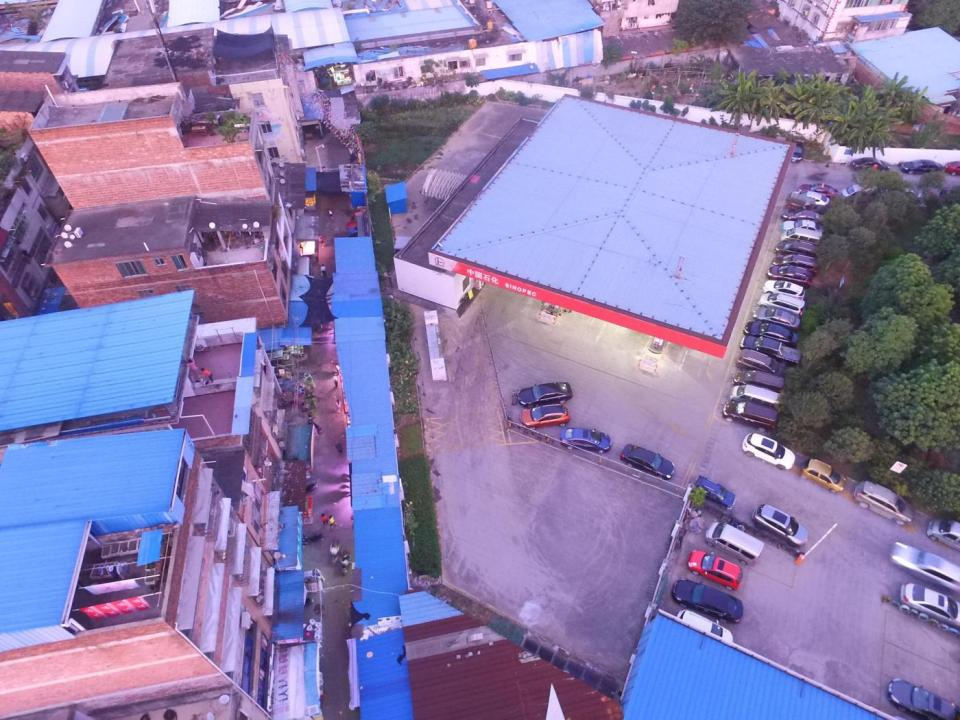car: (889, 542, 959, 594), (671, 578, 743, 623), (886, 679, 960, 720), (899, 581, 960, 629), (854, 480, 914, 525), (752, 503, 808, 548), (686, 549, 742, 591), (675, 609, 734, 643), (742, 433, 796, 470), (620, 444, 675, 480), (722, 400, 778, 432), (799, 458, 846, 494), (742, 321, 799, 348), (517, 382, 573, 409), (736, 348, 786, 378), (519, 404, 571, 431), (695, 476, 736, 509), (560, 427, 612, 453), (732, 370, 784, 393), (752, 306, 800, 330), (926, 518, 960, 550), (766, 265, 814, 287), (771, 254, 818, 276), (762, 280, 805, 300), (775, 240, 817, 259), (901, 160, 944, 175), (792, 191, 830, 207), (800, 183, 838, 198), (850, 158, 890, 172), (781, 209, 821, 223), (781, 220, 824, 233), (841, 184, 874, 197), (790, 141, 804, 163), (945, 160, 960, 176)
van: (705, 522, 764, 566), (740, 335, 801, 365), (729, 384, 779, 409), (758, 293, 806, 315), (785, 193, 824, 213), (780, 227, 820, 246)
